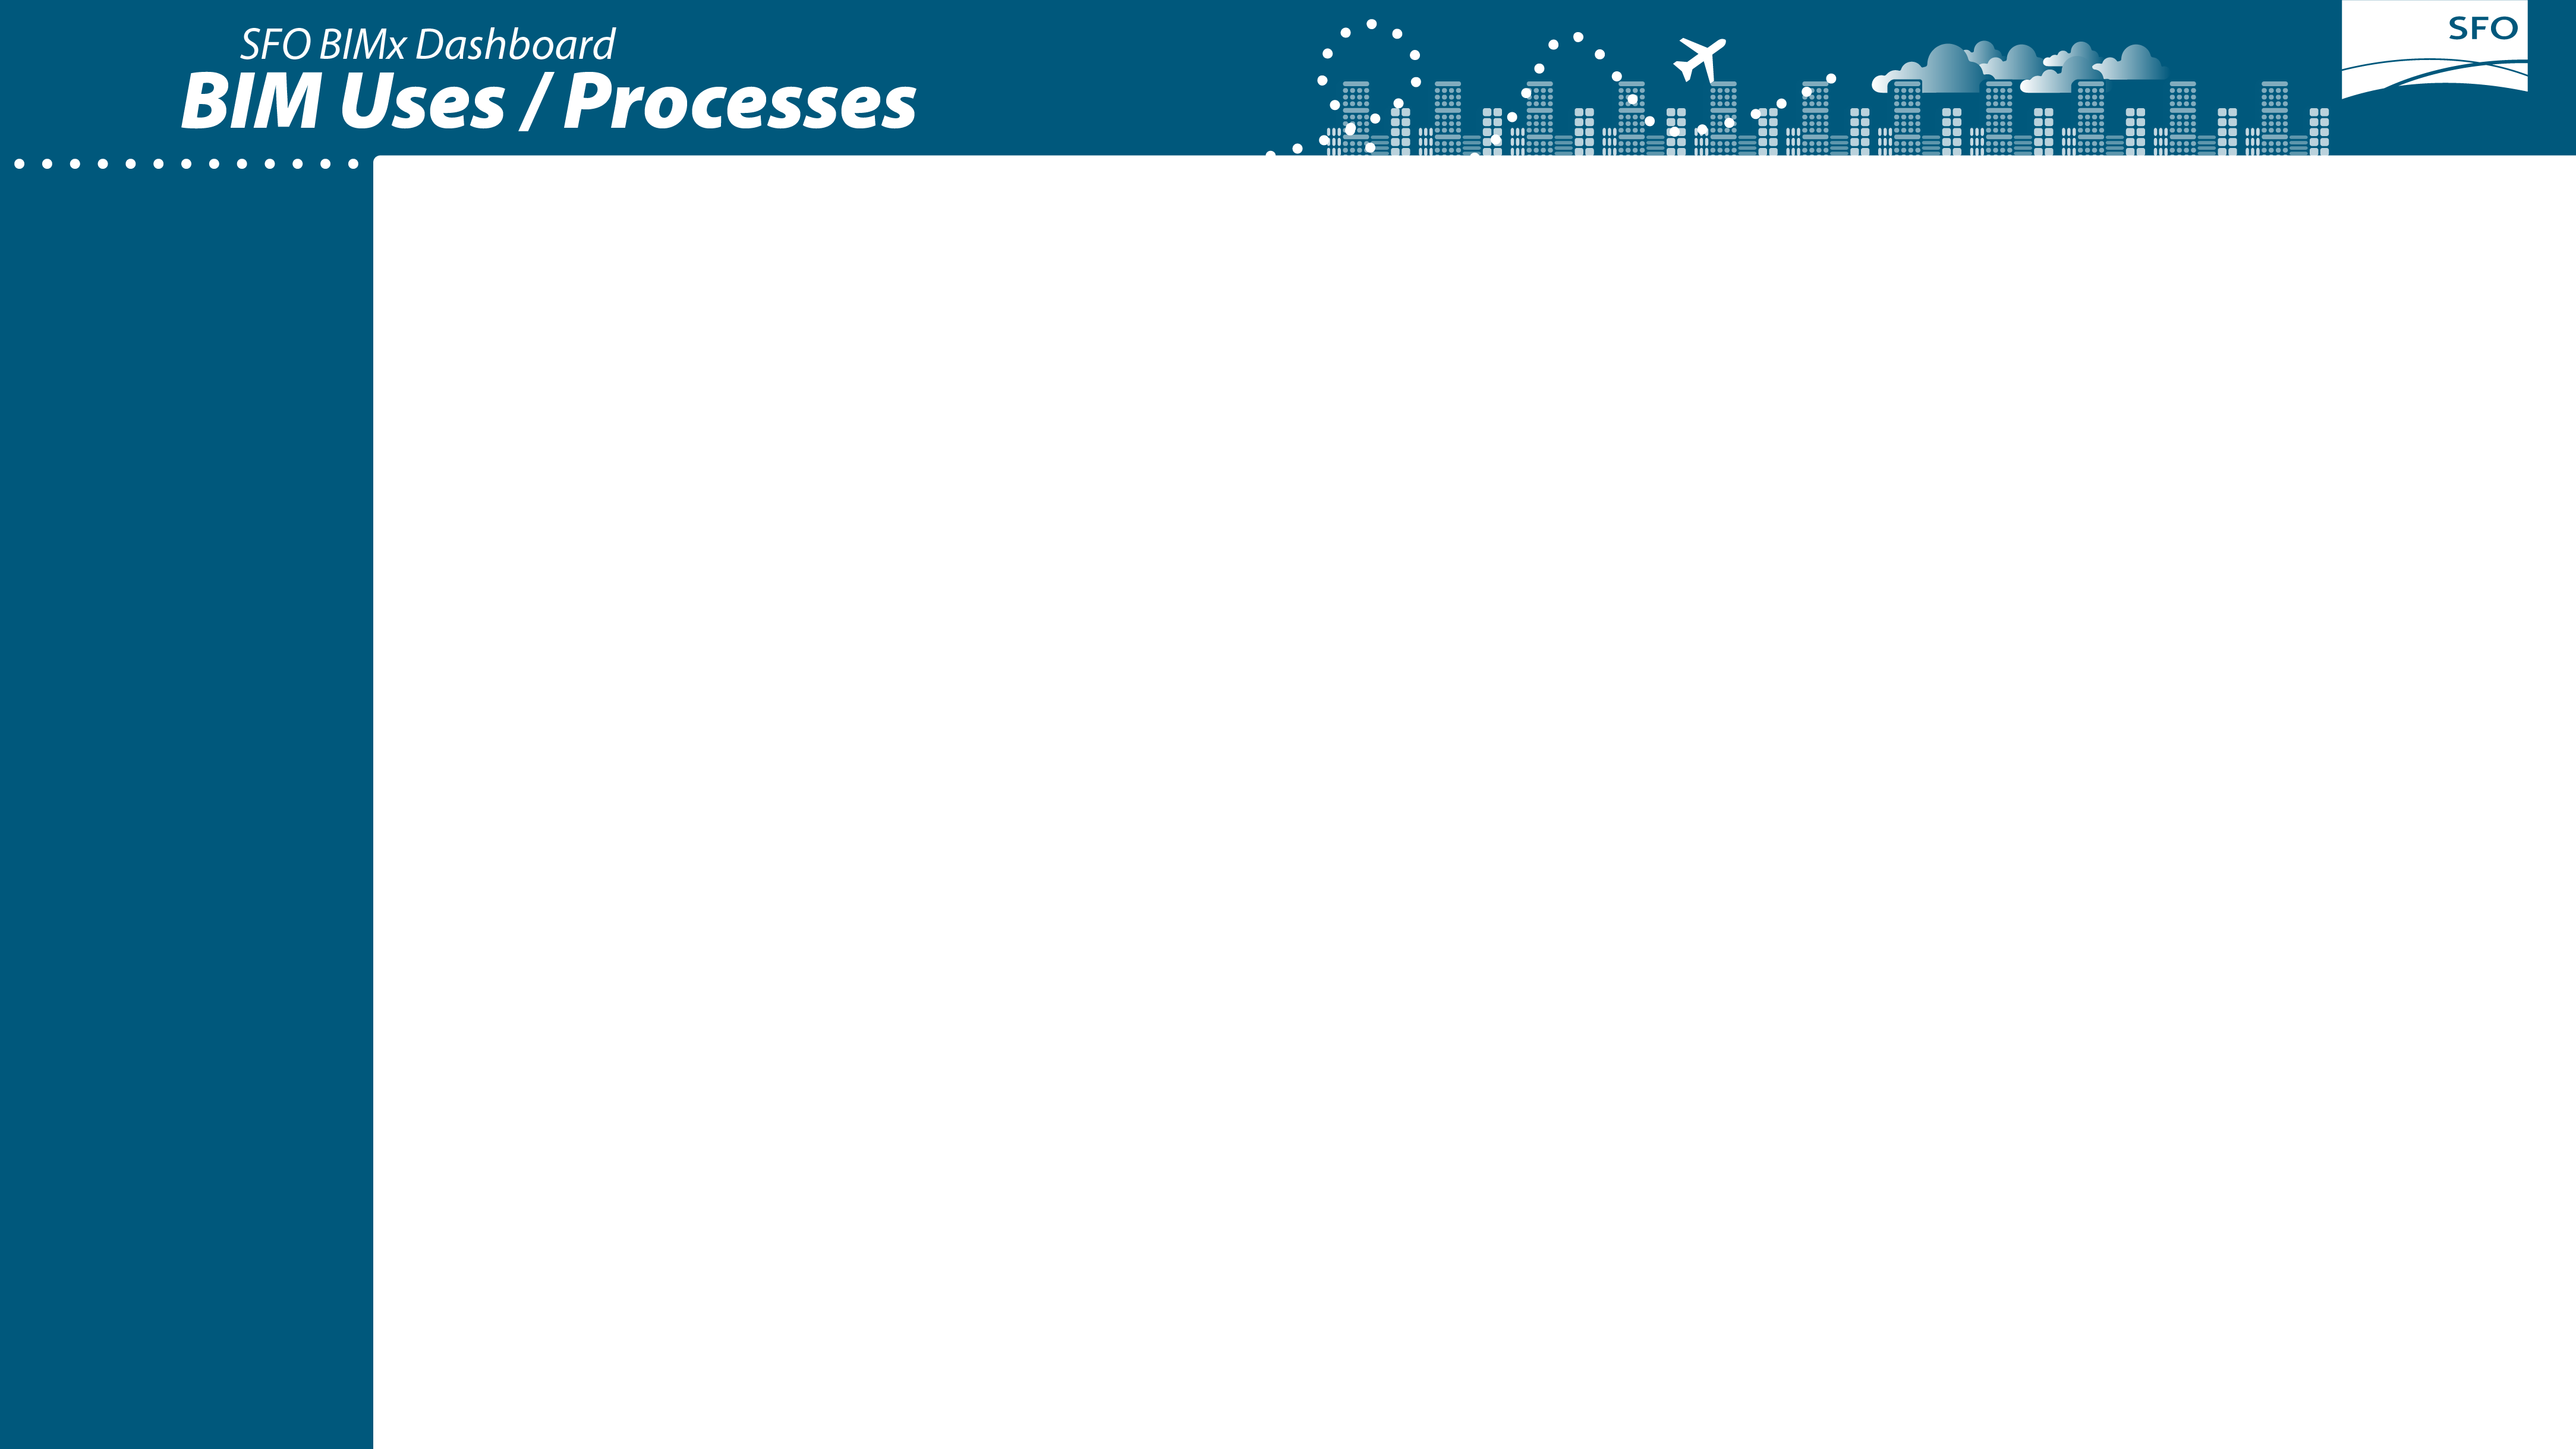

The page's visual inventory and layout, read from the dashboard file:
{"tool":"powerbi","page":{"name":"Page 2","canvas":[1280,720],"ordinal":1},"visuals":[{"type":"PowerApps_PBI_CV_C29F1DCC_81F5_4973_94AD_0517D44CC06A","box":[9.7,0,1270.3,719.8],"z":0}]}

Visuals, with their boxes in screenshot pixels (x1, y1, x2, y2), scaled from the page's 1280x720 canvas onto the 2576x1449 screenshot:
PowerApps_PBI_CV_C29F1DCC_81F5_4973_94AD_0517D44CC06A: x1=20 y1=0 x2=2575 y2=1448
